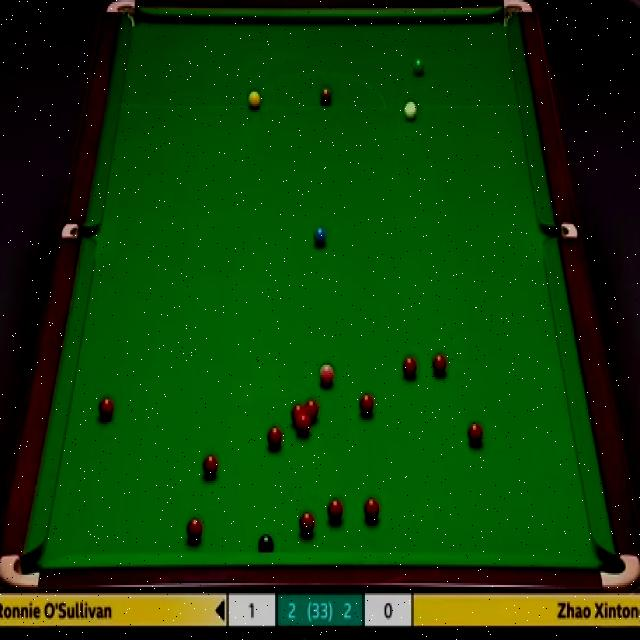black-ball: (258, 534, 274, 553)
blue-ball: (312, 222, 327, 248)
brown-ball: (319, 87, 332, 105)
green-ball: (410, 57, 426, 77)
pink-ball: (319, 359, 335, 387)
red-ball: (98, 395, 116, 423), (401, 354, 418, 383), (201, 452, 218, 480), (466, 424, 484, 450), (363, 496, 380, 523), (186, 516, 203, 542), (358, 392, 374, 418), (328, 498, 343, 524), (300, 511, 315, 536), (432, 354, 447, 379), (267, 426, 282, 450), (305, 400, 319, 424), (297, 416, 310, 436), (292, 403, 304, 424)
white-ball: (402, 98, 419, 124)
yellow-ball: (247, 89, 261, 109)
